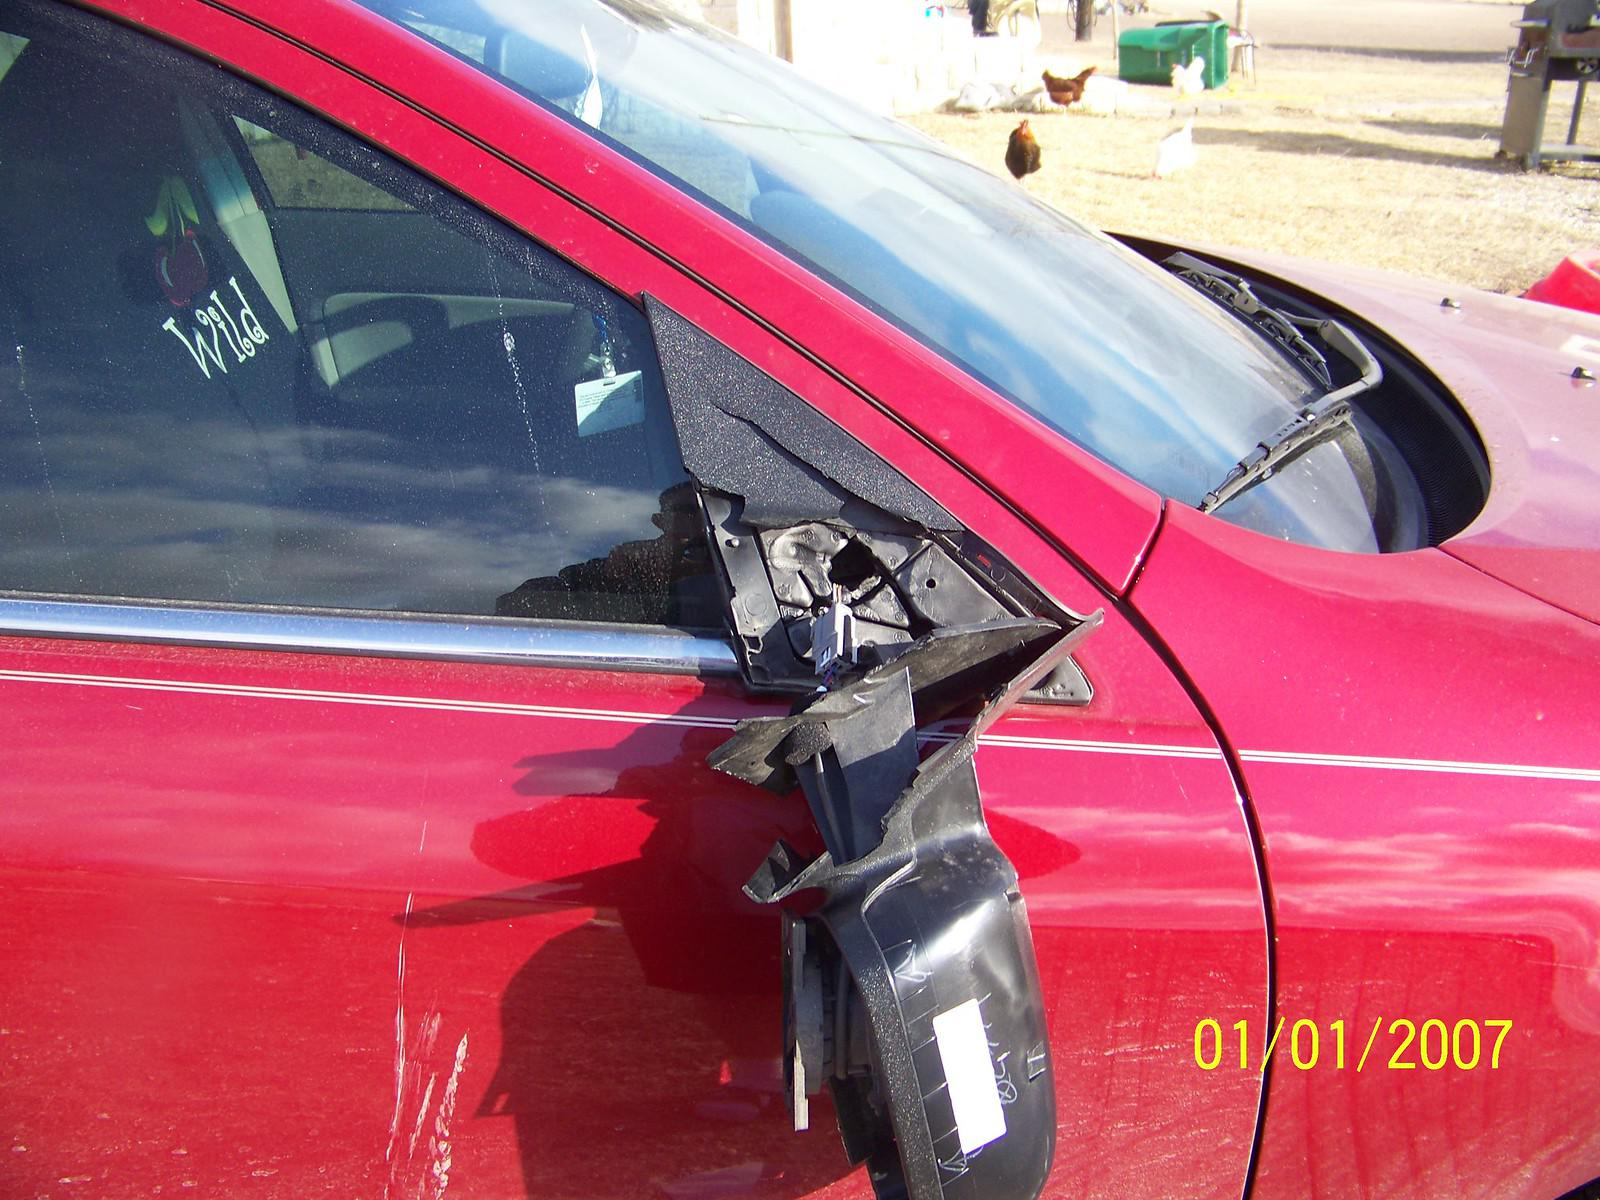Sidemirror-Damage: (481, 383, 1089, 1168)
